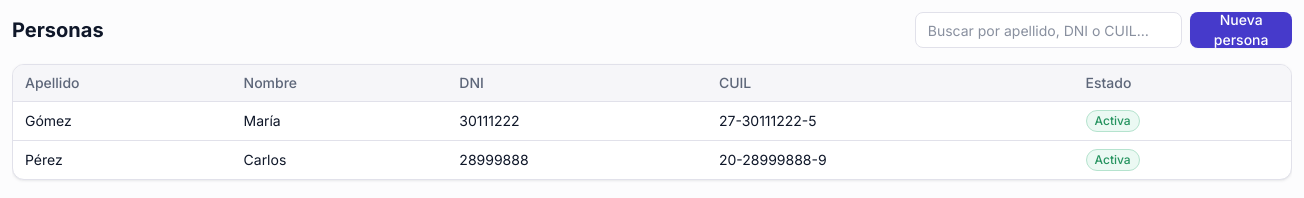
Test: Personas list › renderiza filas de fixtures y filtra por busqueda
The width and height of the screenshot is (1304, 198).
Expected: the text "Gómez" is shown, [13, 102, 232, 140]
Expected: the text "Pérez" is shown, [13, 140, 232, 179]
Type "Gómez" into the field with placeholder "Buscar por apellido, DNI o CUIL…" at (1048, 30), box [915, 12, 1182, 48]
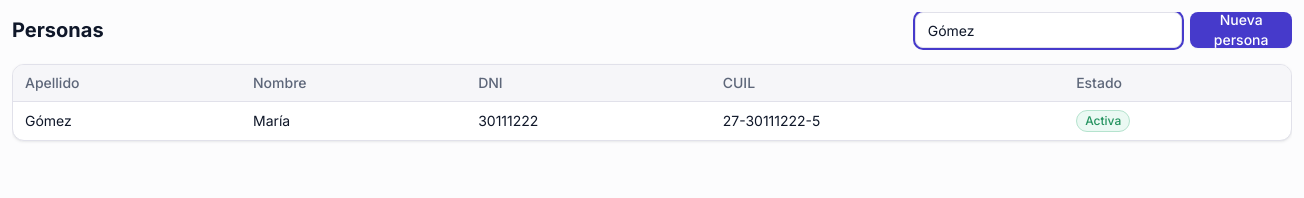
Expected: the text "Gómez" is shown, [13, 102, 241, 140]
Expected: the text "Pérez" is gone
